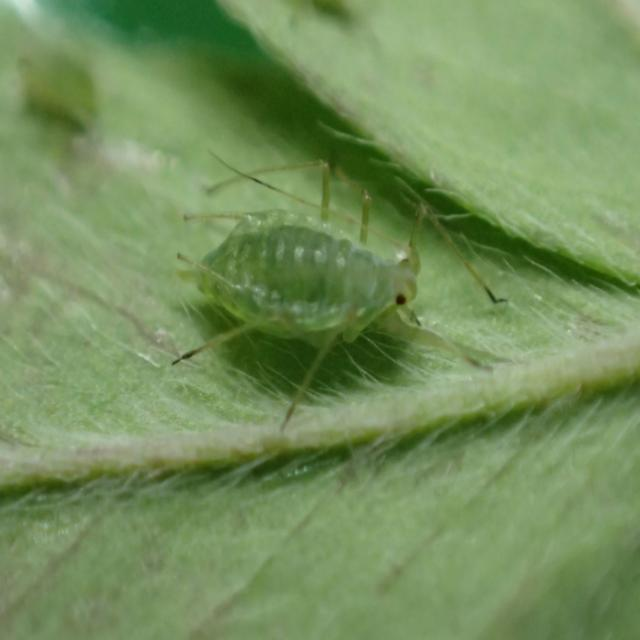Aphid-Grown-: (146, 147, 451, 388)
